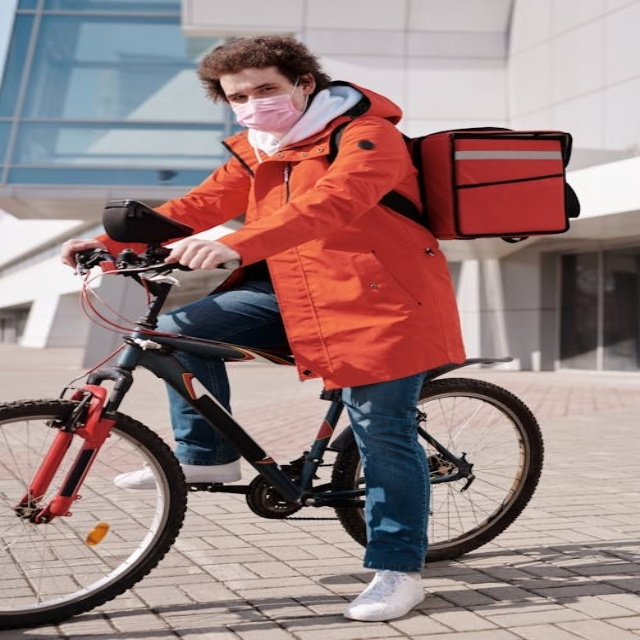Mascara: (230, 82, 306, 135)
Sin_gafas: (224, 79, 282, 103)
Sin_guantes: (164, 238, 237, 271), (60, 236, 101, 268)
